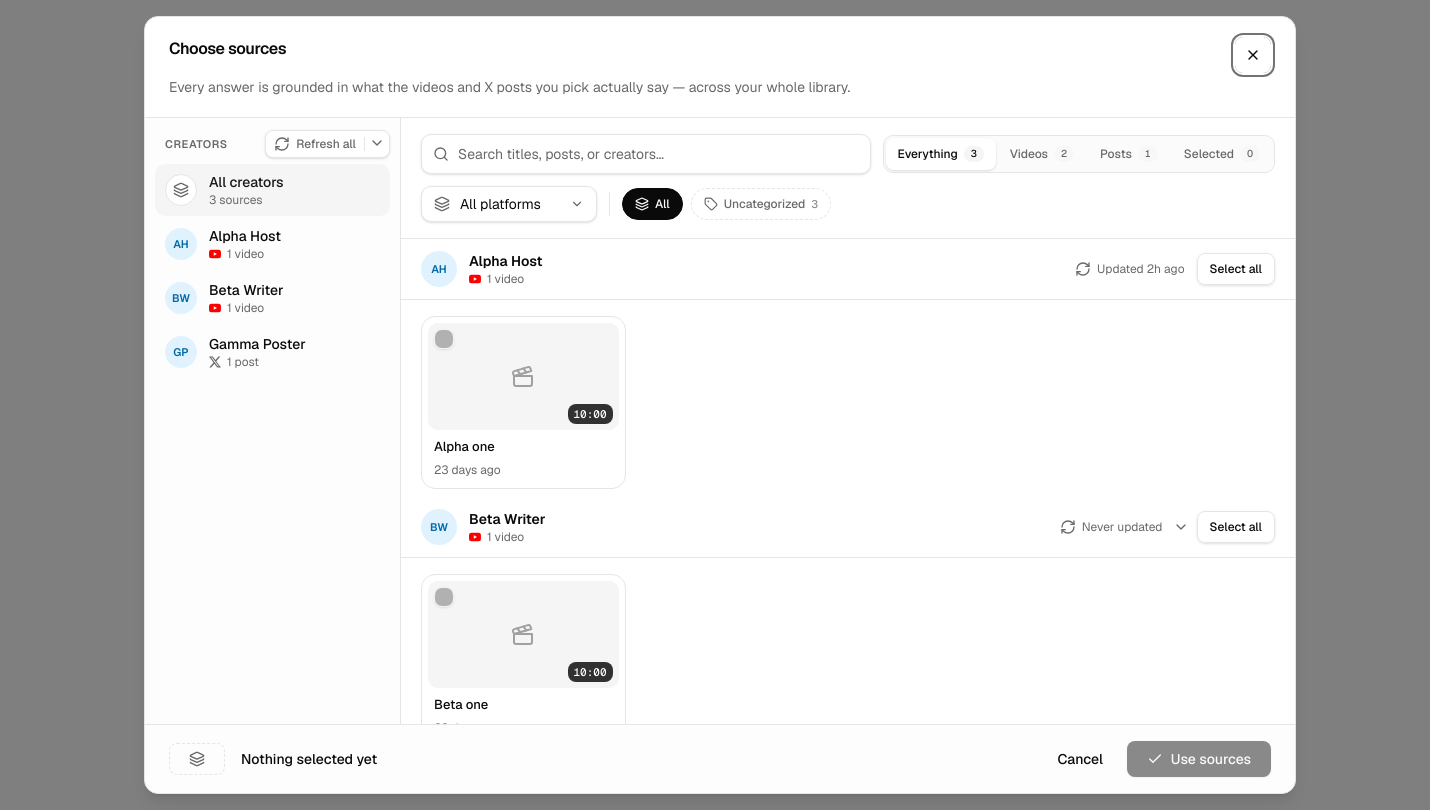
ChatSourcePicker — refreshing everyone › retries only what failed
The image size is (1440, 810).
Click the button "Refresh all": [315, 144] box [266, 131, 364, 157]
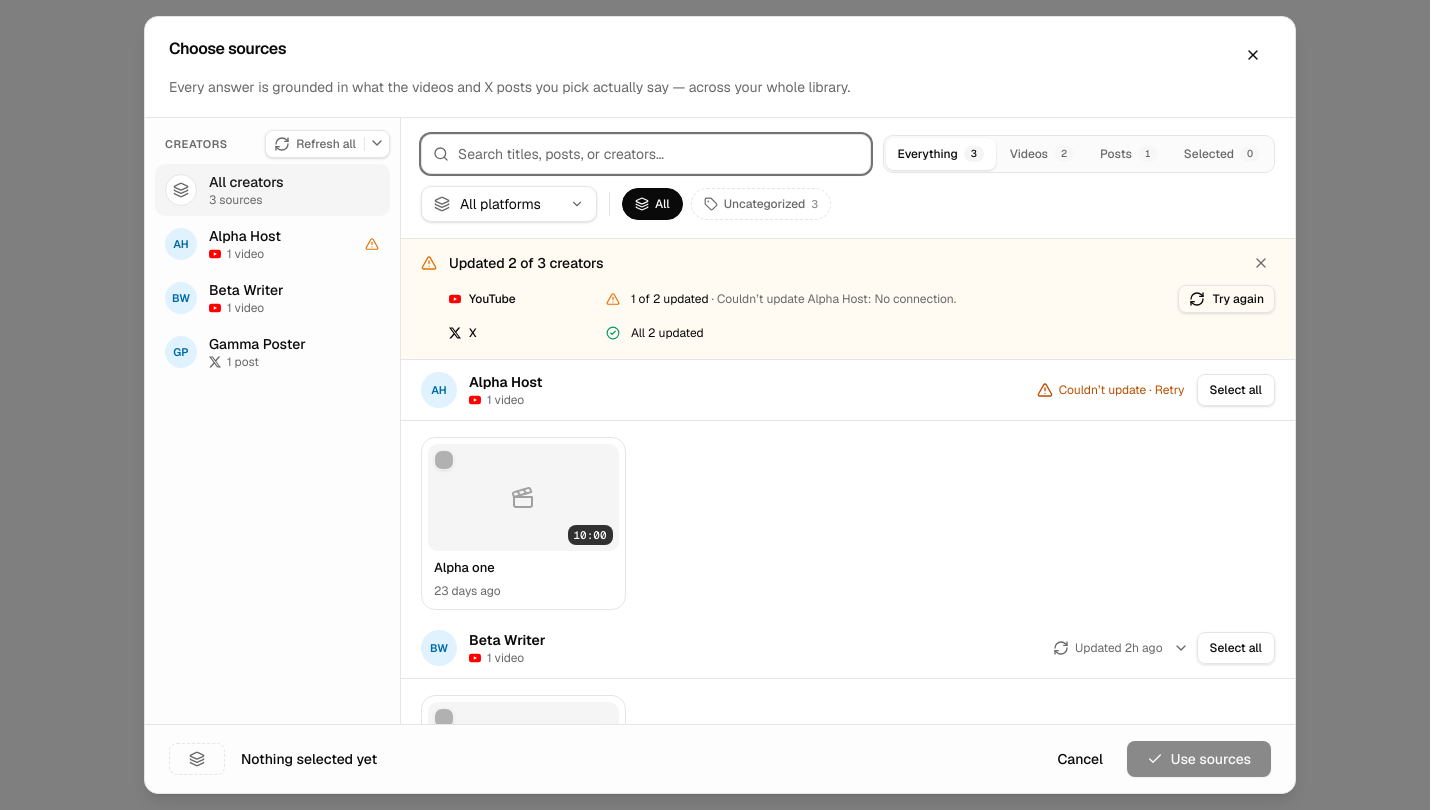
Result: the text "Updated 2 of 3 creators" is shown at [449, 254, 604, 272]
Result: the list item "YouTube" shows "Couldn’t update Alpha Host: No connection." at [449, 283, 1275, 315]
Click the button "Try again": [1226, 299] box [1178, 285, 1275, 313]
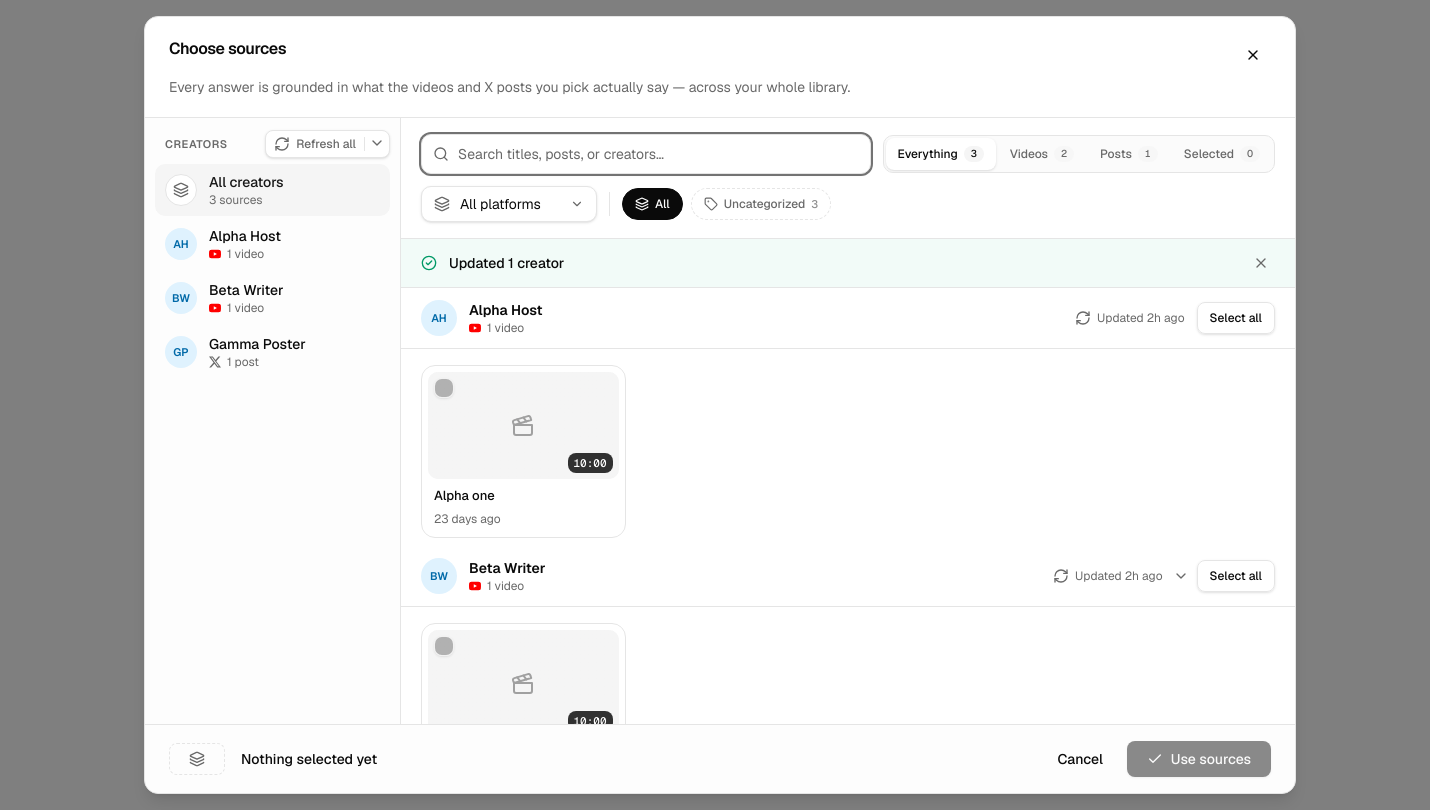
Result: the text "Updated 1 creator" is shown at [449, 254, 564, 272]
